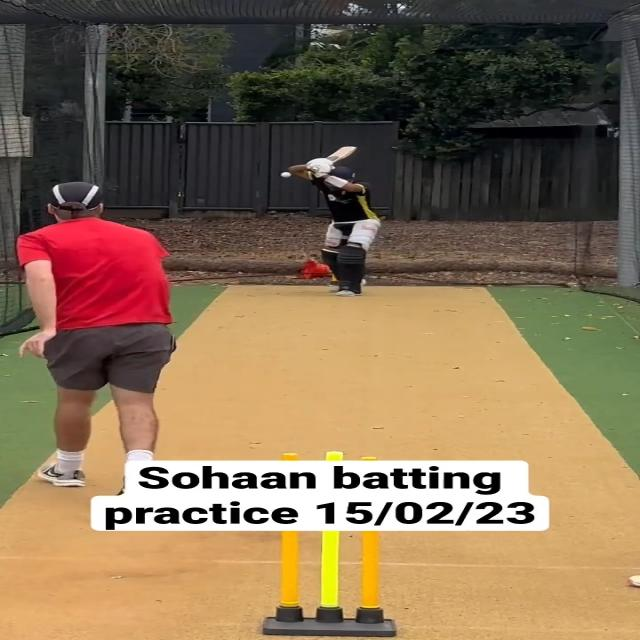ball: (280, 172, 292, 178)
stump: (262, 530, 397, 638)
